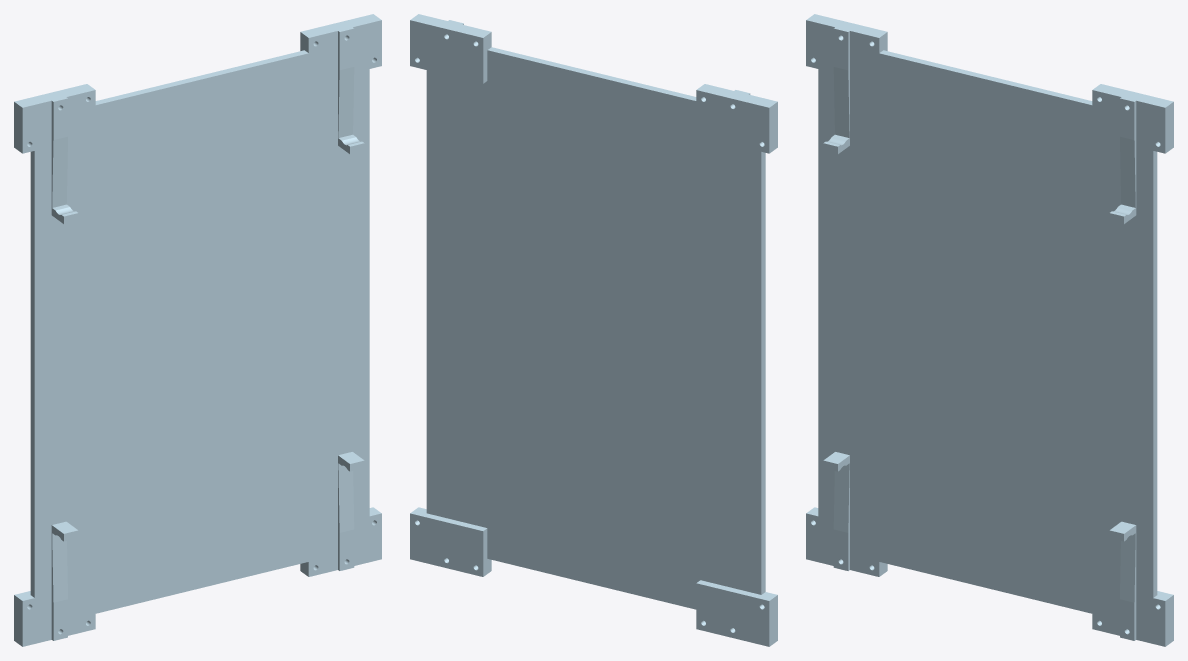
File: support feuille pour assemblage.gltf
3 views of the same model, side by side, from view 1: azimuth 30°, elevation 25°; view 2: azimuth 150°, elevation 25°; view 3: azimuth 330°, elevation 25° (orthographic).
Parts seen in each view (by area): view 1: Part 1 (×9); view 2: Part 1 (×5); view 3: Part 1 (×9).
Boxes of the visible parts, x1=… form: Part 1 (×9): x1=14, y1=14, x2=381, y2=646; Part 1 (×5): x1=410, y1=14, x2=777, y2=646; Part 1 (×9): x1=806, y1=14, x2=1173, y2=646.
Size of the model in its own units: 0.2457 by 0.3523 by 0.0243.
